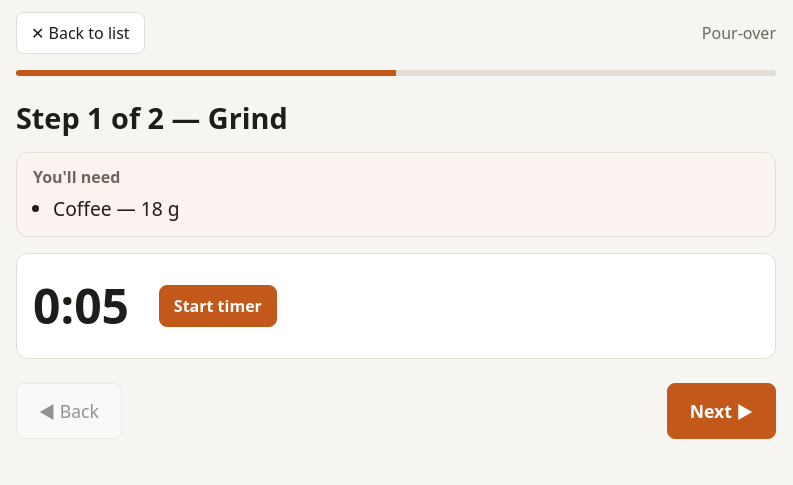
Test case: counts steps only and shows what you need
Expected: the heading "Step 1 of 2 — Grind" is shown, [16,98,288,137]
Click the button "Next ▶" at [721, 411], box [667,383,776,439]
Wait 3000 ms
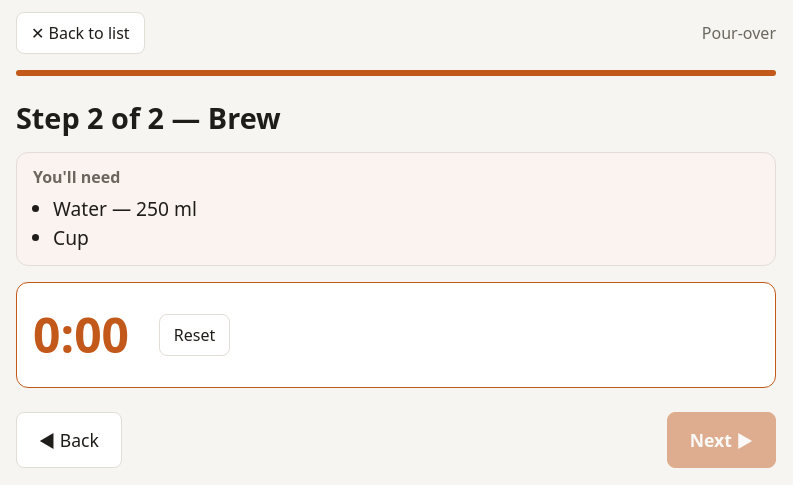
Expected: the heading "Step 2 of 2 — Brew" is shown, [16,98,281,137]
Expected: the button "Next ▶" is disabled, [667,412,776,468]
